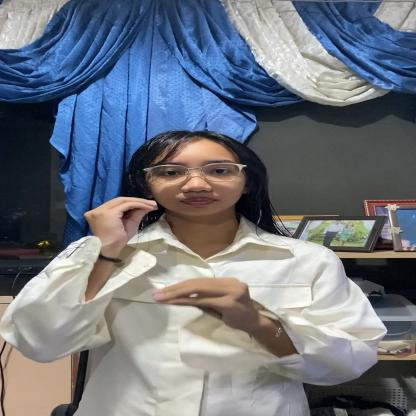Fix: (63, 182, 284, 352)
